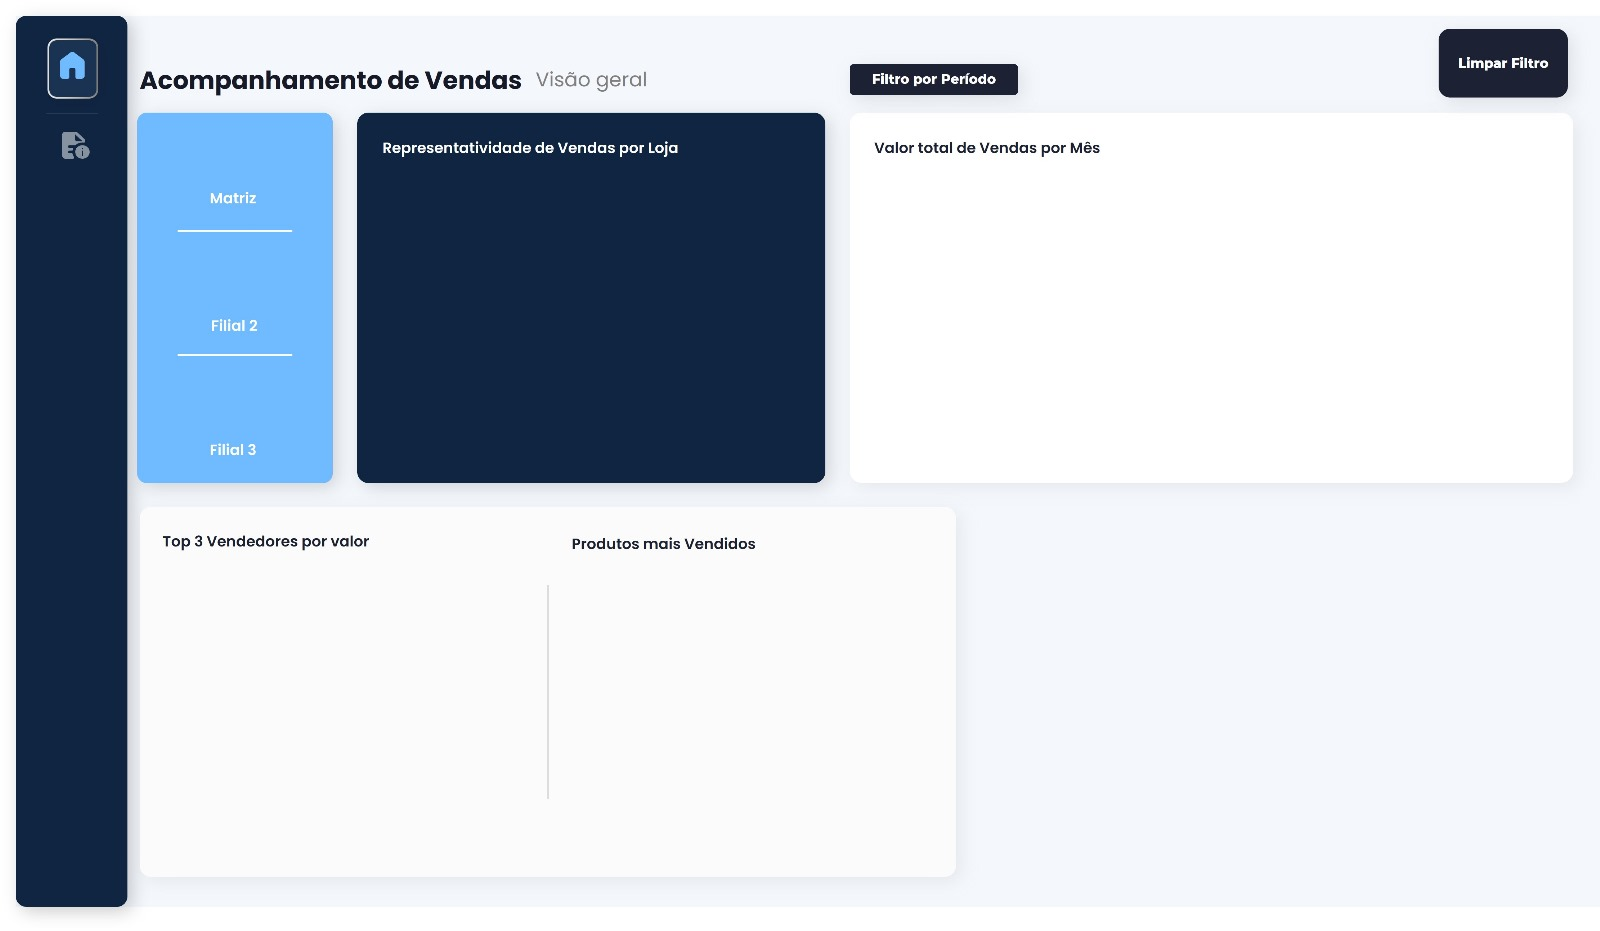

The page's visual inventory and layout, read from the dashboard file:
{"tool":"powerbi","page":{"name":"Dashboard Principal","canvas":[1280,720],"ordinal":0},"visuals":[{"type":"slicer","fields":{"Values":["dCalendario.Ano"]},"box":[793.8,38.6,341.6,43],"z":0},{"type":"lineStackedColumnComboChart","title":"Faturamento e Total de Pedidos por Periodo","fields":{"Y":["Medidas.Faturamento"],"Y2":["Medidas.Quantidade_Pedidos"],"Category":["dCalendario.Nom_do_mes"]},"box":[686.6,124.7,564.6,242.3],"z":1000},{"type":"donutChart","title":"Lojas","fields":{"Y":["Medidas.Faturamento"],"Category":["Loja.Loja"]},"box":[303.8,124.7,347.7,235.3],"z":2000},{"type":"clusteredBarChart","title":"Top 3 Vendedores por Faturamento","fields":{"Category":["Vendedor.Nome_vendedor"],"Y":["Medidas.Faturamento"]},"box":[117.7,429.4,316.1,248.5],"z":3000},{"type":"lineStackedColumnComboChart","title":"Quantidade de Pedidos por Produto","fields":{"Category":["Produtos.Descricao_Produto"],"Y":["Medidas.Faturamento"]},"box":[440.8,439,324,238.8],"z":4000},{"type":"map","fields":{"Category":["Loja.Cidade"],"Size":["Medidas.Faturamento"]},"box":[775.3,391.6,482,286.2],"z":5000},{"type":"card","fields":{"Values":["Medidas.Fat_Matriz"]},"box":[117.7,98.2,139.1,52.5],"z":6000},{"type":"card","fields":{"Values":["Medidas.Fat_Filial2"]},"box":[117.7,189.7,139.1,52.5],"z":7000},{"type":"card","fields":{"Values":["Medidas.Fat_Filial3"]},"box":[117.7,286.9,139.1,52.5],"z":8000},{"type":"actionButton","box":[34.2,88.7,46.5,50.9],"z":9000},{"type":"actionButton","box":[1153.8,30.7,97.5,38.6],"z":9001}]}

Visuals, with their boxes on the page's 1280x720 design canvas (x1, y1, x2, y2). These are canvas units, not pixel positions in the 1600x931 screenshot, which may show the page scaled, cropped or inside an application window:
slicer - dCalendario.Ano: <bbox>794, 39, 1135, 82</bbox>
"Faturamento e Total de Pedidos por Periodo" lineStackedColumnComboChart: <bbox>687, 125, 1251, 367</bbox>
"Lojas" donutChart: <bbox>304, 125, 652, 360</bbox>
"Top 3 Vendedores por Faturamento" clusteredBarChart: <bbox>118, 429, 434, 678</bbox>
"Quantidade de Pedidos por Produto" lineStackedColumnComboChart: <bbox>441, 439, 765, 678</bbox>
map - Loja.Cidade x Medidas.Faturamento: <bbox>775, 392, 1257, 678</bbox>
card - Medidas.Fat_Matriz: <bbox>118, 98, 257, 151</bbox>
card - Medidas.Fat_Filial2: <bbox>118, 190, 257, 242</bbox>
card - Medidas.Fat_Filial3: <bbox>118, 287, 257, 339</bbox>
actionButton: <bbox>34, 89, 81, 140</bbox>
actionButton: <bbox>1154, 31, 1251, 69</bbox>
